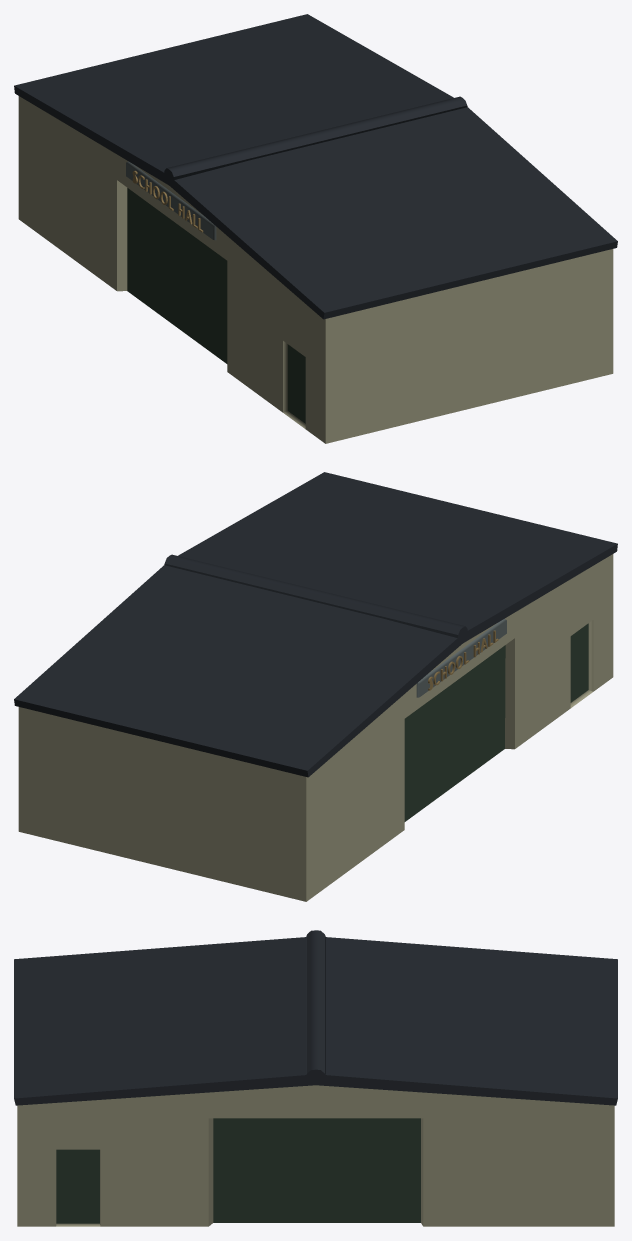
The model's file is SchoolHall.fbx.
The picture shows the model from 3 angles, top to bottom: view 1: azimuth 30°, elevation 25°; view 2: azimuth 150°, elevation 25°; view 3: azimuth 270°, elevation 25°; orthographic projection. The views are drawn at different scales.
Visible parts, largest first — view 1: pCube3; view 2: pCube3; view 3: pCube3.
Part boxes in pixels (bbox=[...]): pCube3: bbox=[14, 14, 617, 443]; pCube3: bbox=[14, 472, 617, 901]; pCube3: bbox=[14, 930, 617, 1226].
Bounding box in the file's own units: 93.15 × 49.09 × 170.
